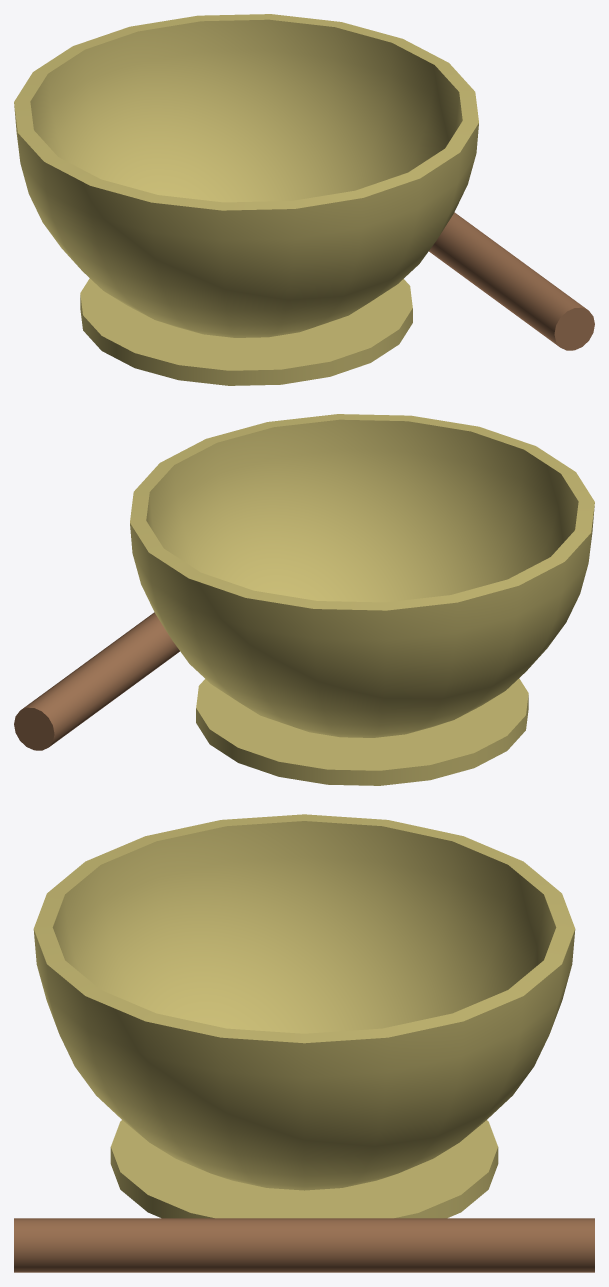
File: bell 1.fbx
The picture shows the model from 3 angles, top to bottom: view 1: azimuth 30°, elevation 25°; view 2: azimuth 150°, elevation 25°; view 3: azimuth 270°, elevation 25°; orthographic projection. The views are drawn at different scales.
Visible parts, largest first — view 1: bowl, stage, stick; view 2: bowl, stage, stick; view 3: bowl, stick, stage.
Part boxes in pixels (x1,y1,x2,y2): bowl: (14,14,478,337); stage: (80,278,412,385); stick: (429,212,594,350); bowl: (130,414,594,737); stage: (196,678,528,785); stick: (14,612,179,750); bowl: (33,814,575,1190); stick: (14,1218,594,1272); stage: (110,1120,498,1218).
Bounding box in the file's own units: 14.69 × 6.75 × 15.
